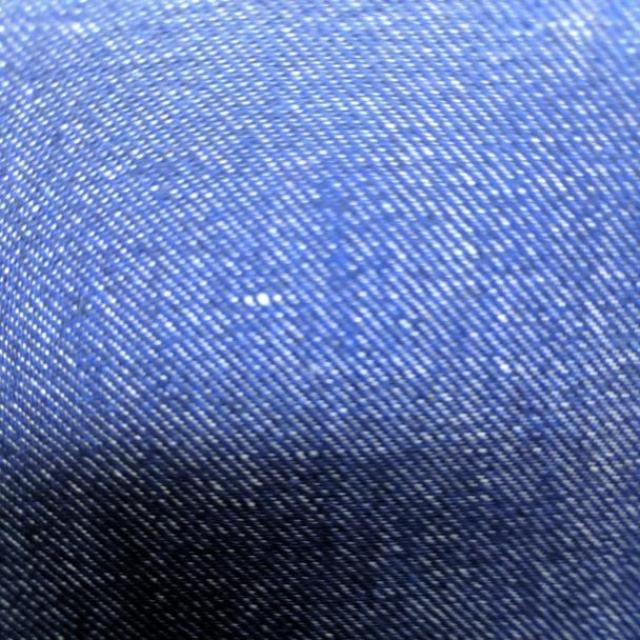Knot: (242, 293, 283, 307)
